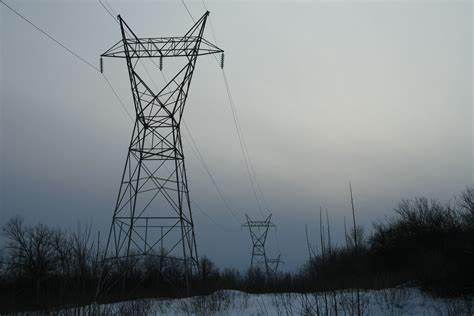power_tower: (101, 12, 224, 310), (237, 210, 281, 291)
